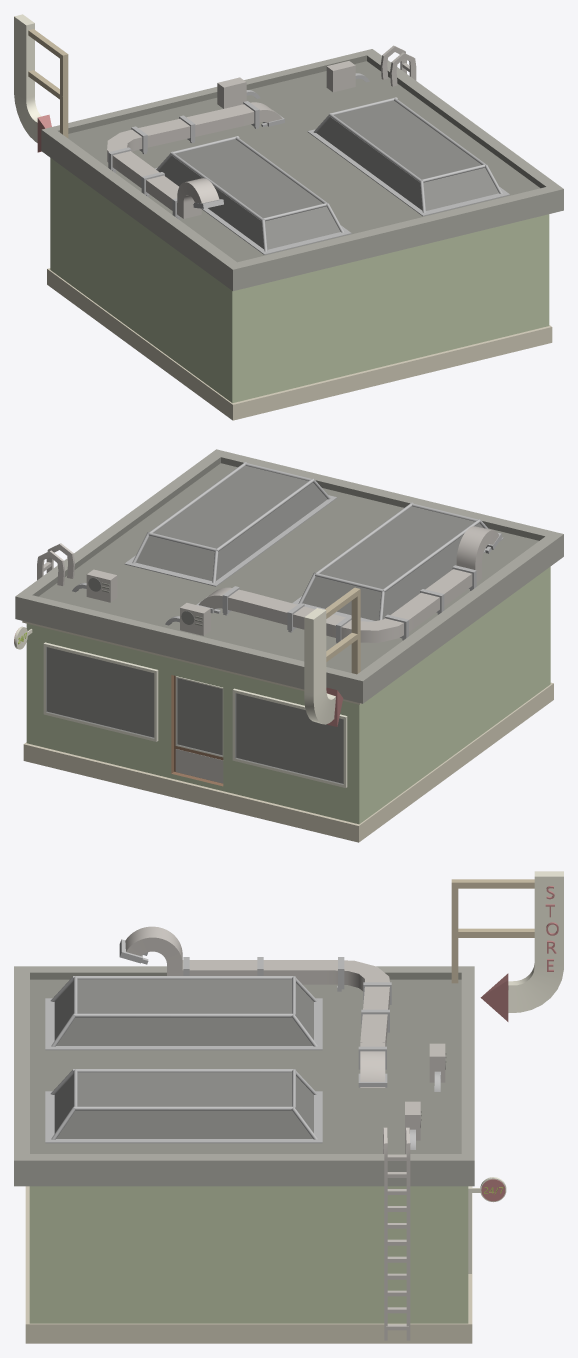
File: house26.fbx
3 views of the same model, one above another, from view 1: azimuth 30°, elevation 25°; view 2: azimuth 150°, elevation 25°; view 3: azimuth 270°, elevation 25° (orthographic). The views are drawn at different scales.
Parts seen in each view (by area): view 1: e_1_1; view 2: e_1_1; view 3: e_1_1.
Part boxes in pixels (x1,y1,x2,y2): e_1_1: (14,14,563,420); e_1_1: (14,449,563,842); e_1_1: (14,871,563,1343).
Size of the model in its own units: 1170 by 792 by 1373.
